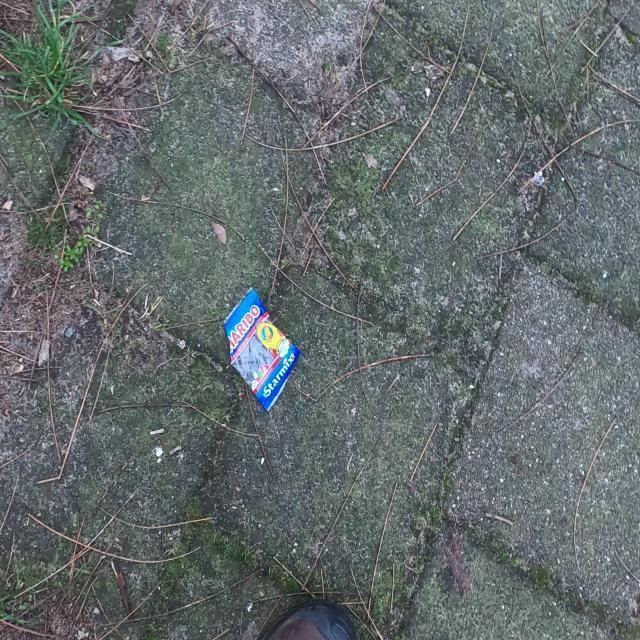Plastic: (222, 283, 302, 414)
